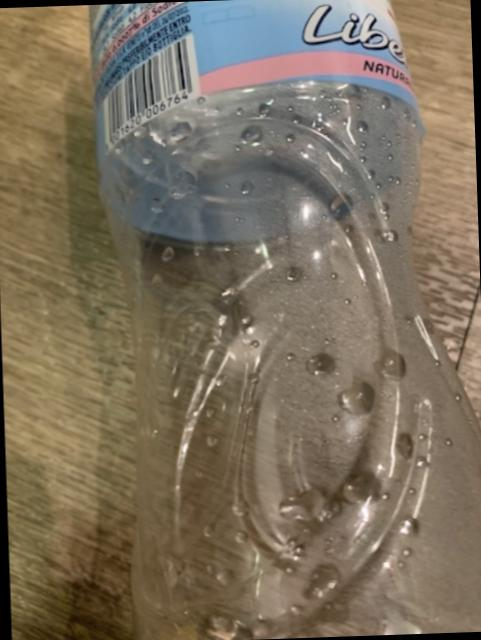plastic: (89, 0, 481, 640)
